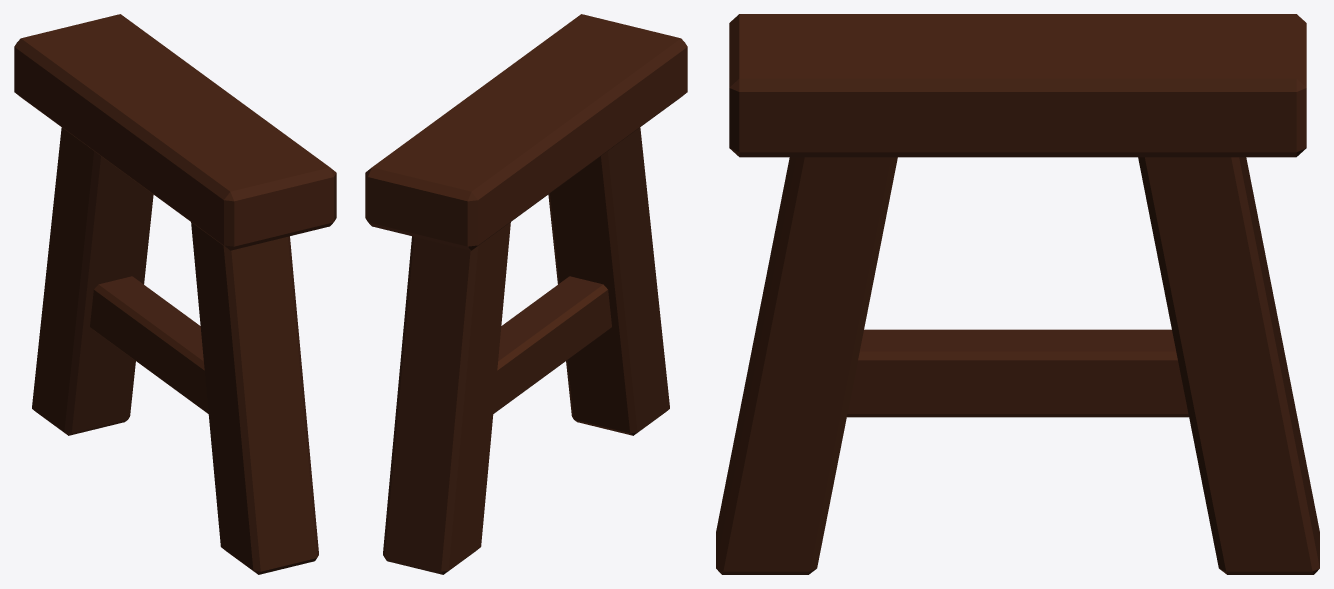
Rendered from D10_Table_Trestle.fbx.
The picture shows the model from 3 angles, left to right: view 1: azimuth 30°, elevation 25°; view 2: azimuth 150°, elevation 25°; view 3: azimuth 270°, elevation 25°; orthographic projection. The views are drawn at different scales.
Visible parts, largest first — view 1: D10_Table_Trestle; view 2: D10_Table_Trestle; view 3: D10_Table_Trestle.
Boxes of the visible parts, x1,y1,x2,y2 form: D10_Table_Trestle: [14, 14, 336, 574]; D10_Table_Trestle: [365, 14, 687, 574]; D10_Table_Trestle: [716, 14, 1319, 574].
Size of the model in its own units: 0.24 by 0.78 by 0.8365.
Materials: 1 (1 with a texture image).
